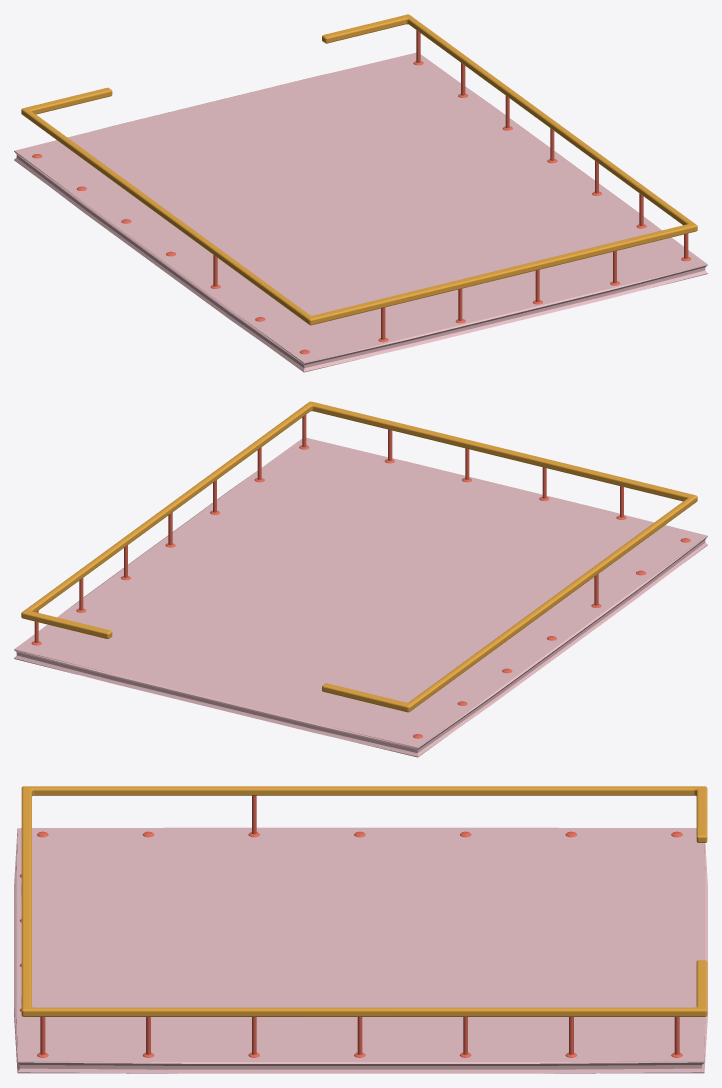
The model's file is WidePlatformScaffolding.fbx.
3 renders of one model, top to bottom at view 1: azimuth 30°, elevation 25°; view 2: azimuth 150°, elevation 25°; view 3: azimuth 270°, elevation 25°, orthographic. The views are drawn at different scales.
Visible parts, largest first — view 1: Cube.002, Cube.001; view 2: Cube.002, Cube.001; view 3: Cube.002, Cube.001.
Part boxes in pixels (x1,y1,x2,y2): Cube.002: (14, 52, 707, 372); Cube.001: (21, 14, 697, 325); Cube.002: (14, 437, 707, 757); Cube.001: (21, 401, 697, 712); Cube.002: (14, 827, 707, 1073); Cube.001: (21, 786, 707, 1016).
Bounding box in the file's own units: 528 × 73.78 × 657.
